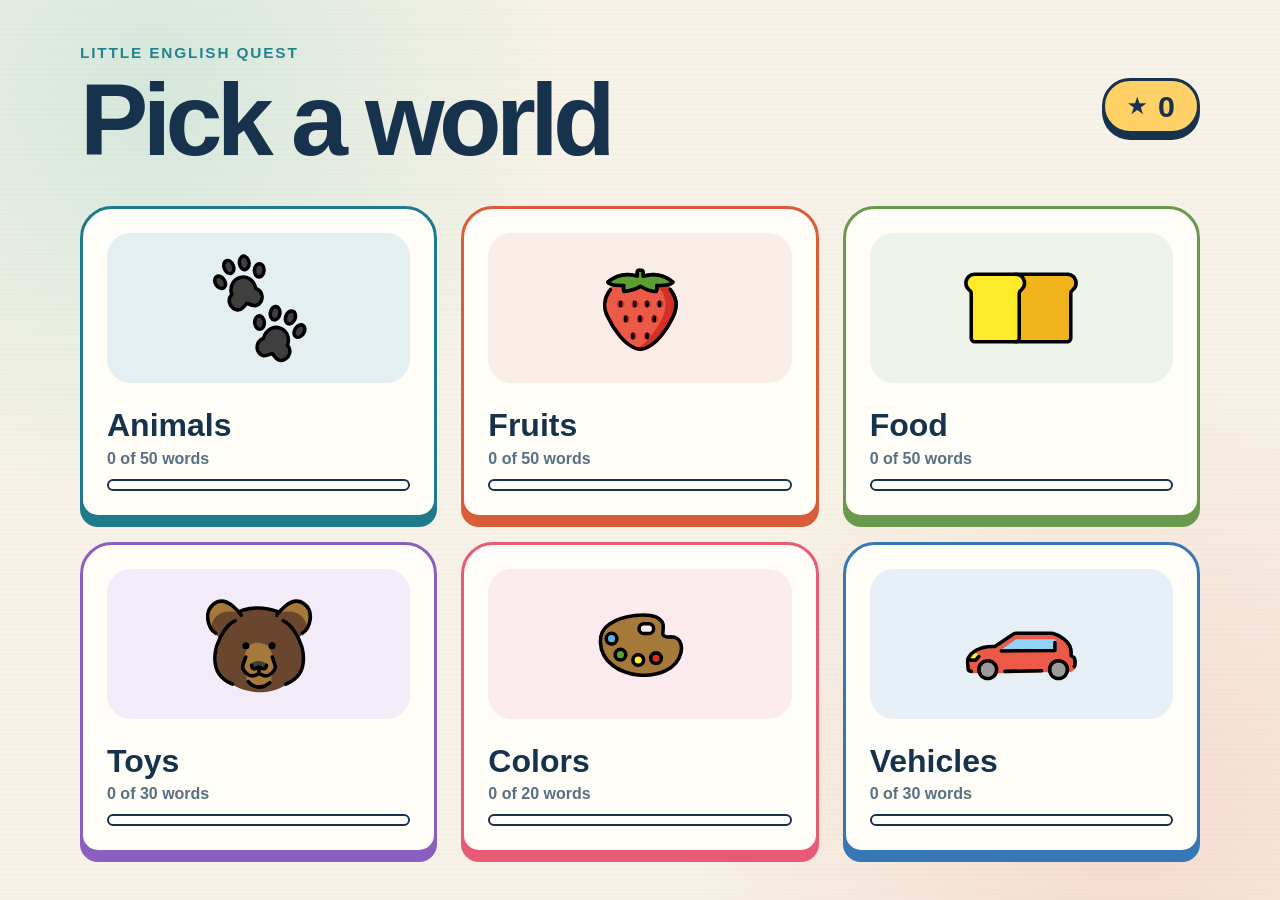
Test: App flow › cycles through different everyday sentences for a word
What coordinates should you click on to do the following:
click the button "Animals 0 of 50 words"
I would click on:
 (259, 362)
Its box is [80,206,437,518].
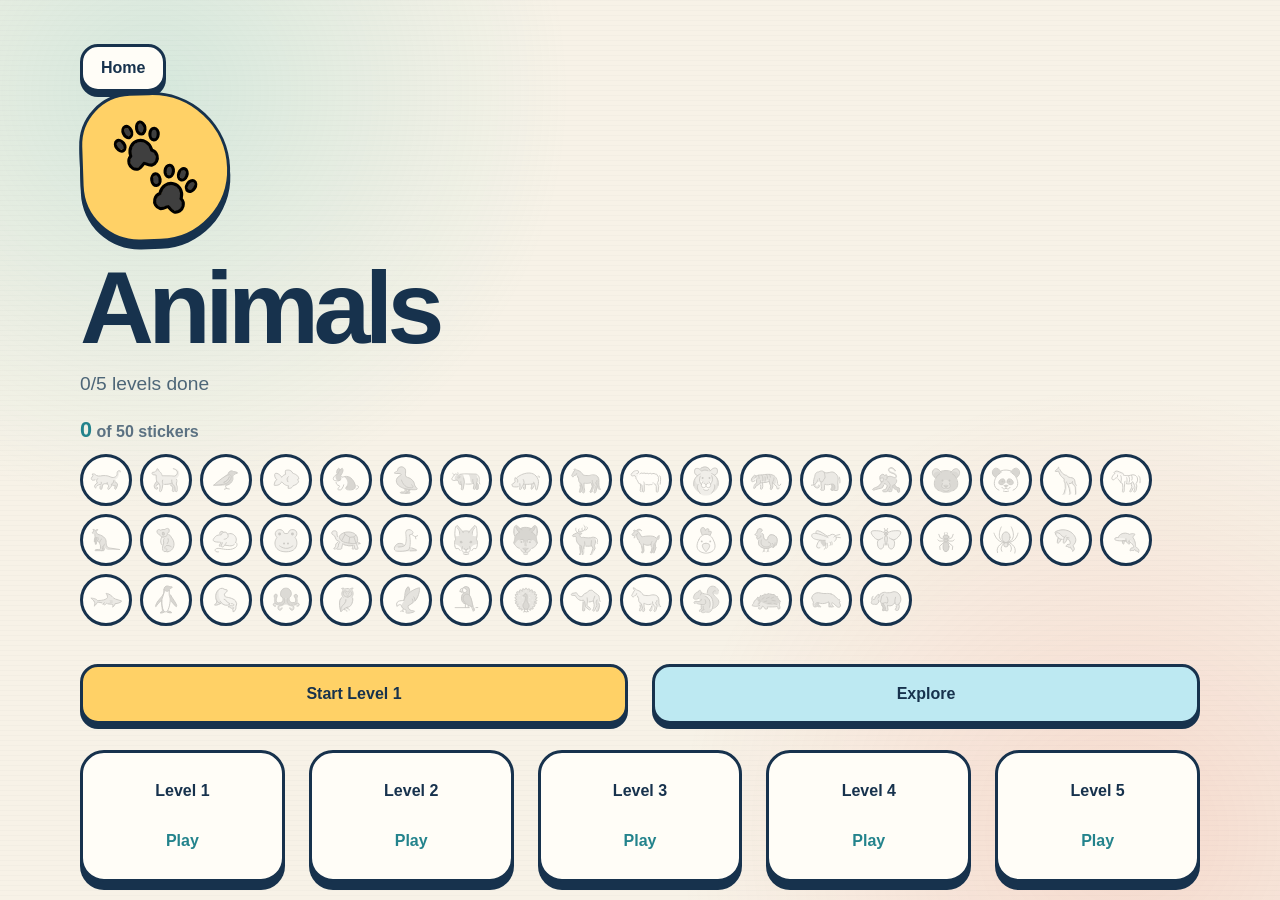
What coordinates should you click on to do the following:
click the button "Start Level 1"
I would click on:
 (354, 694)
Its box is [80,664,628,724].
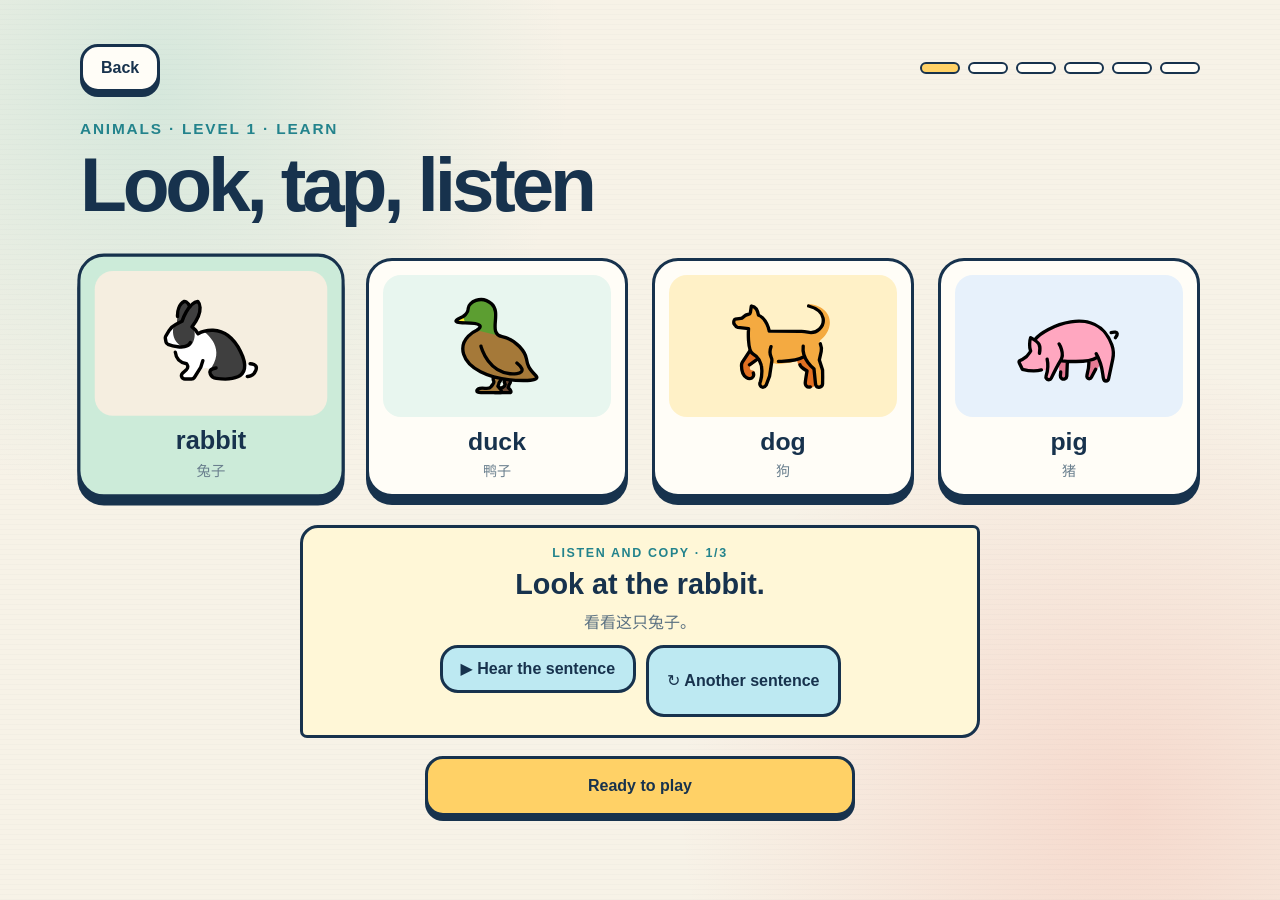
What coordinates should you click on to do the following:
click the button with aria-label "Show another sentence"
I would click on:
 (743, 681)
Its box is [646,645,840,717].
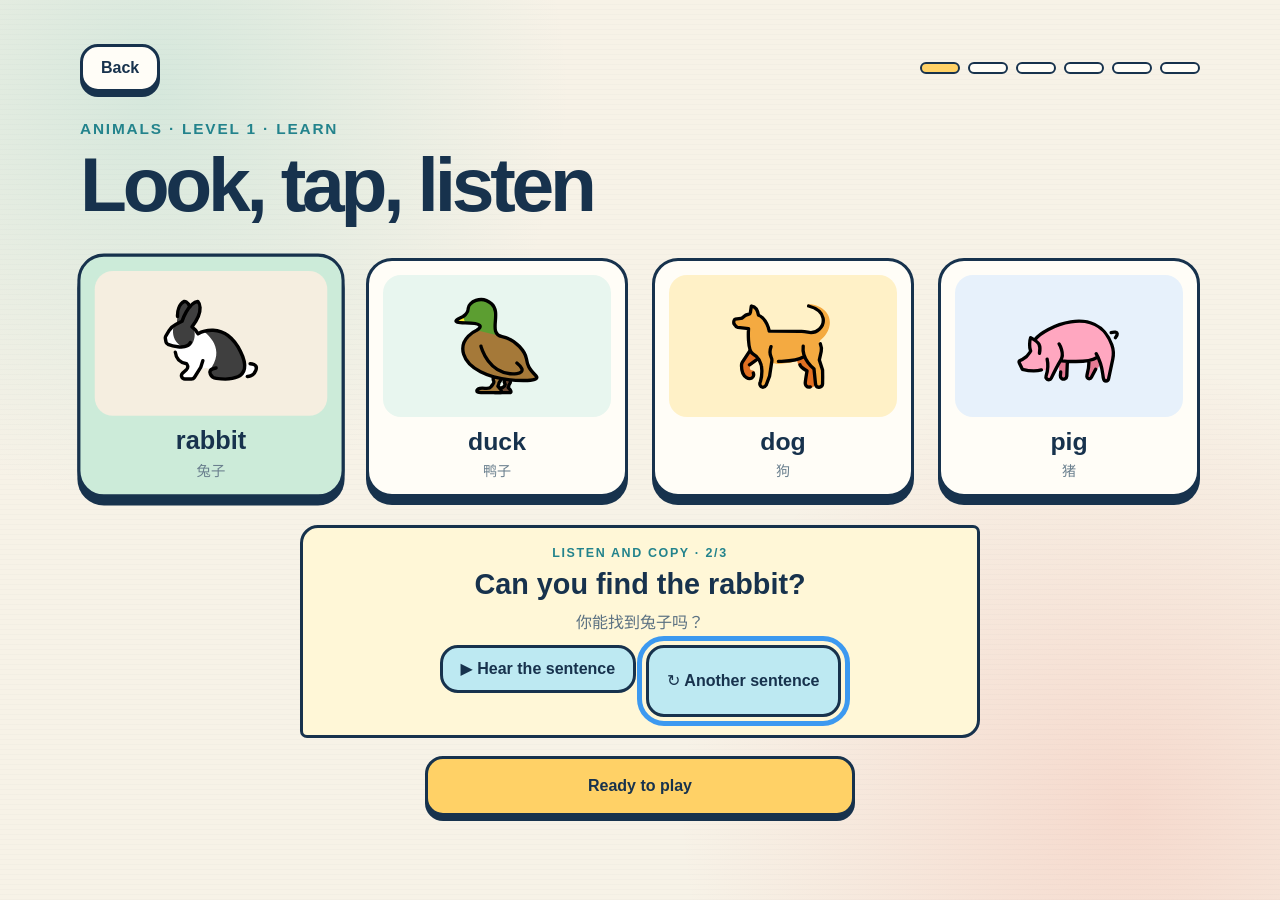
Expected: the text "Listen and copy · 2/3" is shown, [552,546,728,560]
